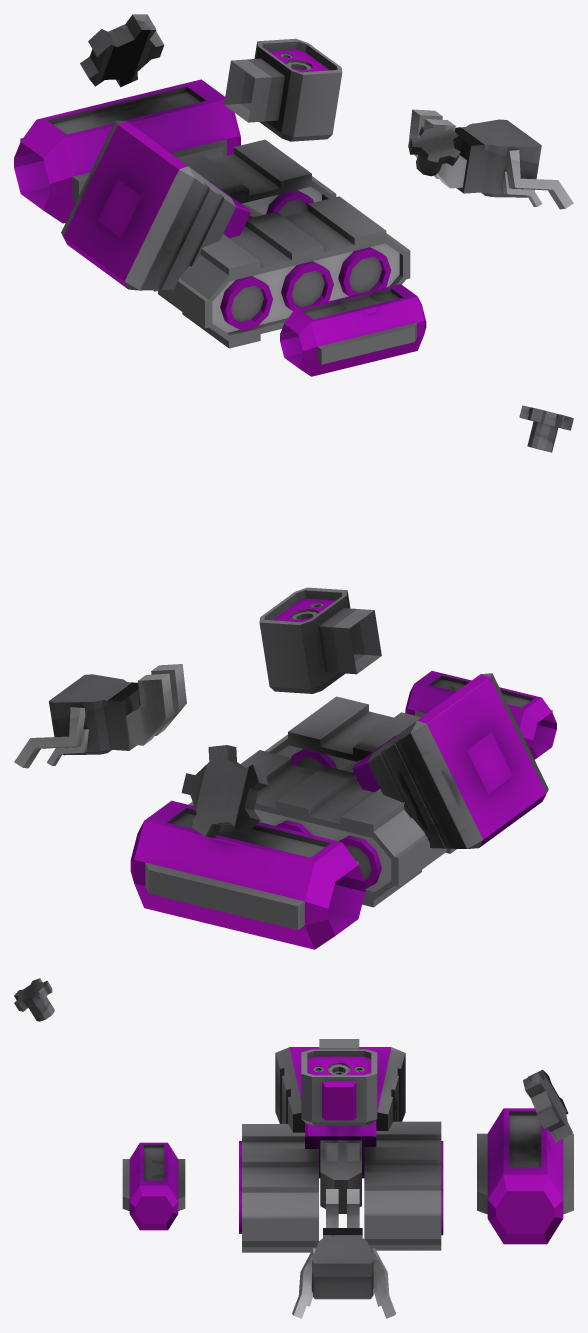
Rendered from Enemy2_Die23.obj.
3 views of the same model, one above another, from view 1: azimuth 30°, elevation 25°; view 2: azimuth 150°, elevation 25°; view 3: azimuth 270°, elevation 25° (orthographic). The views are drawn at different scales.
Parts seen in each view (by area): view 1: Object006, Object013, Object011, Object014, Object012, Object010, Object009, Object008; view 2: Object011, Object013, Object006, Object010, Object012, Object009, Object014, Object008; view 3: Object006, Object011, Object013, Object010, Object012, Object014, Object009, Object008.
Part boxes in pixels (x1,y1,x2,y2): Object006: [153, 139, 410, 348]; Object013: [61, 120, 263, 290]; Object011: [14, 79, 240, 223]; Object014: [280, 284, 426, 376]; Object012: [224, 38, 342, 141]; Object010: [408, 109, 573, 209]; Object009: [80, 14, 164, 87]; Object008: [408, 124, 460, 176]; Object011: [130, 800, 365, 949]; Object013: [341, 673, 548, 848]; Object006: [188, 696, 456, 907]; Object010: [14, 664, 186, 768]; Object012: [259, 587, 381, 693]; Object009: [181, 745, 268, 838]; Object014: [405, 671, 556, 759]; Object008: [519, 405, 573, 452]; Object006: [239, 1121, 443, 1252]; Object011: [477, 1108, 573, 1244]; Object013: [275, 1047, 405, 1213]; Object010: [292, 1189, 395, 1318]; Object012: [301, 1039, 377, 1125]; Object014: [122, 1142, 185, 1230]; Object009: [523, 1069, 572, 1142]; Object008: [14, 978, 54, 1021].
Bounding box in the file's own units: 191 × 117 × 249.
